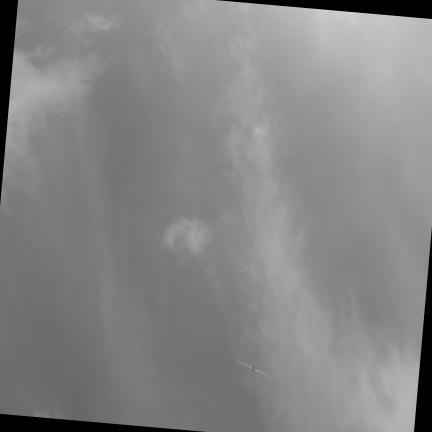Shahed: (235, 359, 273, 378)
